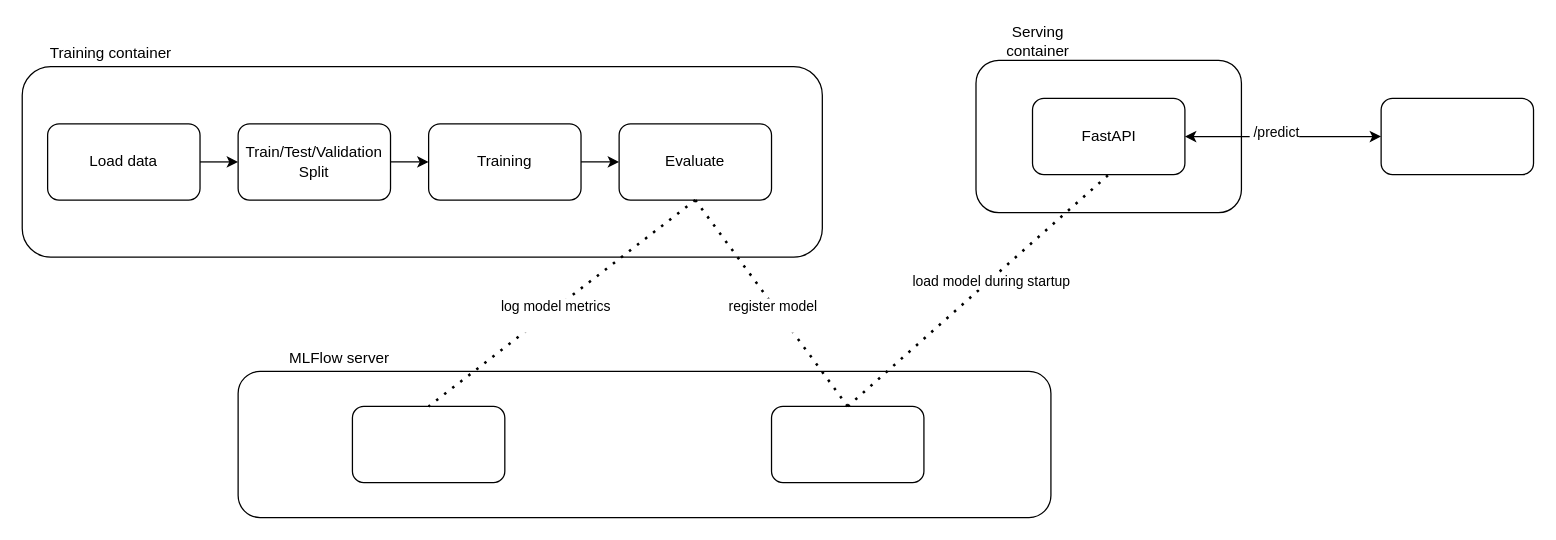
The diagram is 1556 pixels wide and 540 high, and some of its shapes have lost their labels. Here are the shapes that lost their labels. From the top down, the centre of each, then its label:
At point 1457,136: "Taxfix Backend".
At point 428,444: "Runs".
At point 847,444: "Model Registry".
